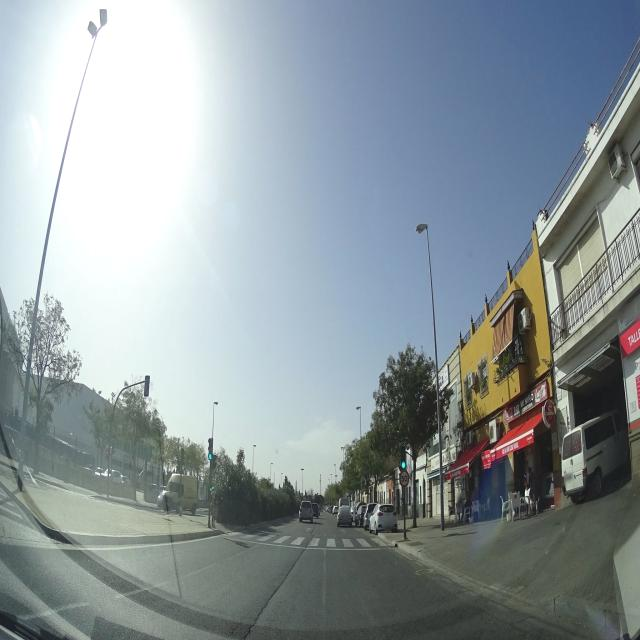car: (559, 407, 633, 505), (156, 471, 200, 516), (369, 502, 398, 534), (298, 499, 314, 524), (362, 502, 376, 529), (337, 506, 352, 528), (356, 502, 367, 527), (312, 502, 320, 518)
